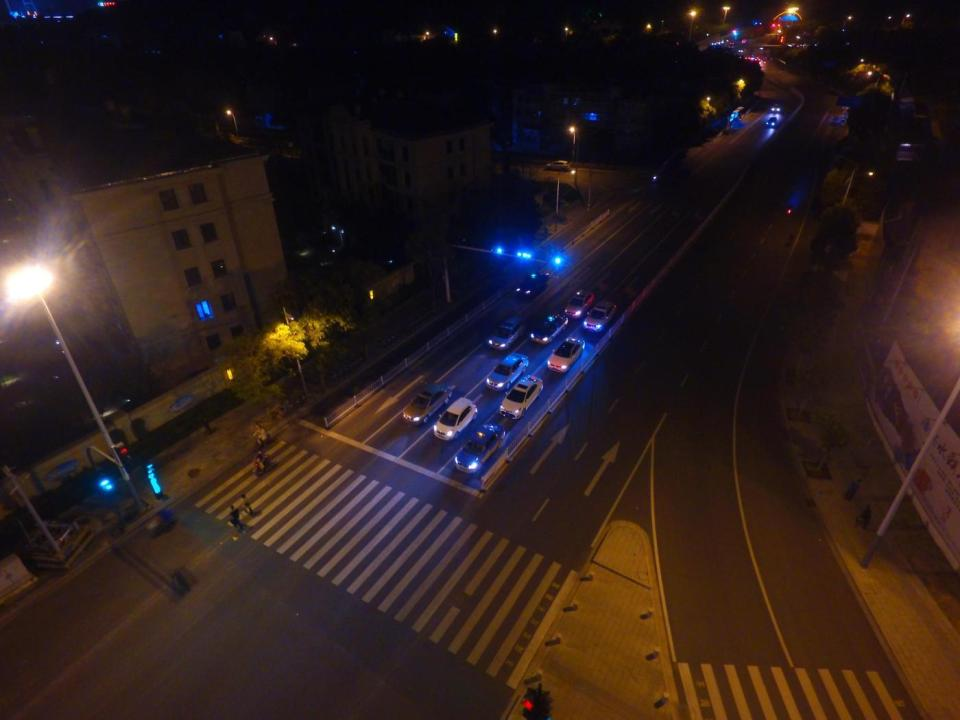car: (453, 423, 505, 473), (431, 397, 477, 440), (401, 386, 452, 424), (500, 376, 541, 421), (486, 354, 530, 394), (488, 315, 526, 352), (545, 337, 584, 373), (531, 315, 568, 345), (583, 302, 615, 335), (515, 269, 549, 297), (564, 287, 594, 318), (542, 159, 572, 172), (898, 144, 914, 160), (764, 117, 777, 128), (771, 103, 780, 112)
